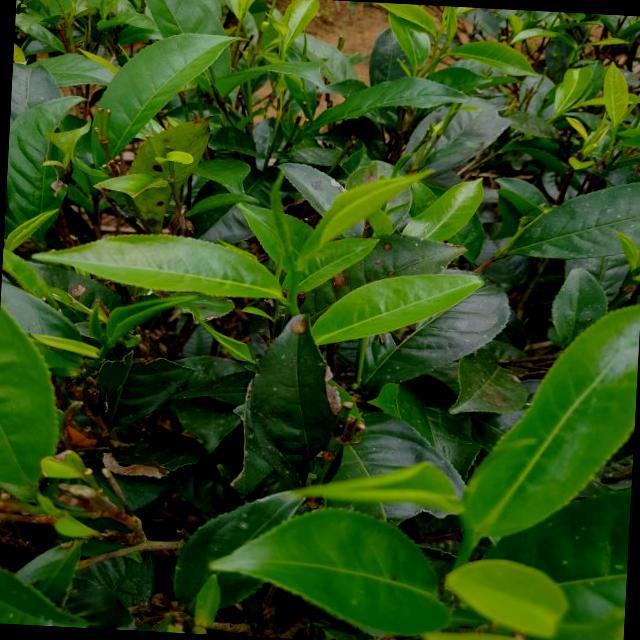Stem: (289, 300, 296, 307)
